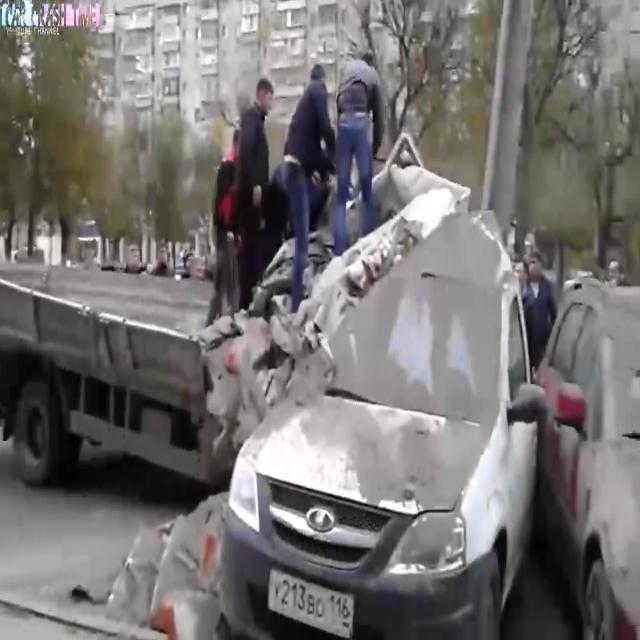Accident: (101, 70, 508, 611), (557, 267, 640, 608)
